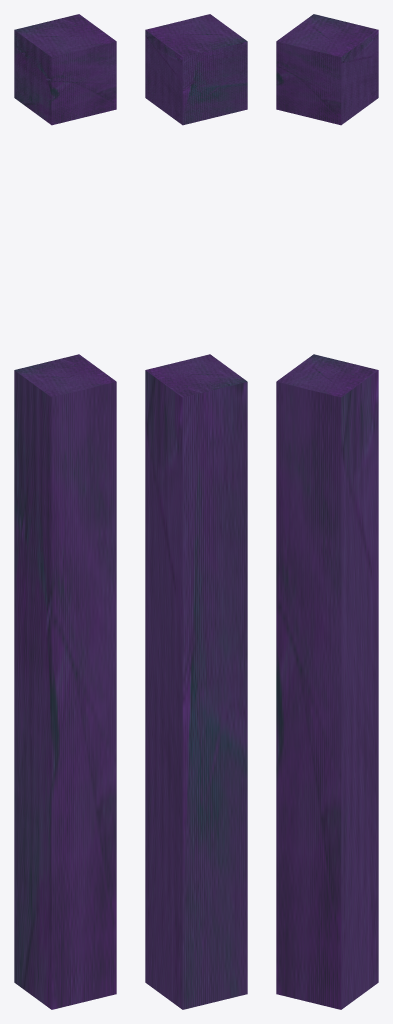
File: obs2.glb
3 renders of one model, left to right at view 1: azimuth 30°, elevation 25°; view 2: azimuth 210°, elevation 25°; view 3: azimuth 330°, elevation 25°, orthographic.
Visible parts, largest first — view 1: obs21; view 2: obs21; view 3: obs21.
Part boxes in pixels (x1,y1,x2,y2): obs21: (14, 14, 116, 1009); obs21: (145, 14, 247, 1009); obs21: (276, 14, 378, 1009).
Size of the model in its own units: 1 by 14 by 1.
Materials: 1 (1 with a texture image).
